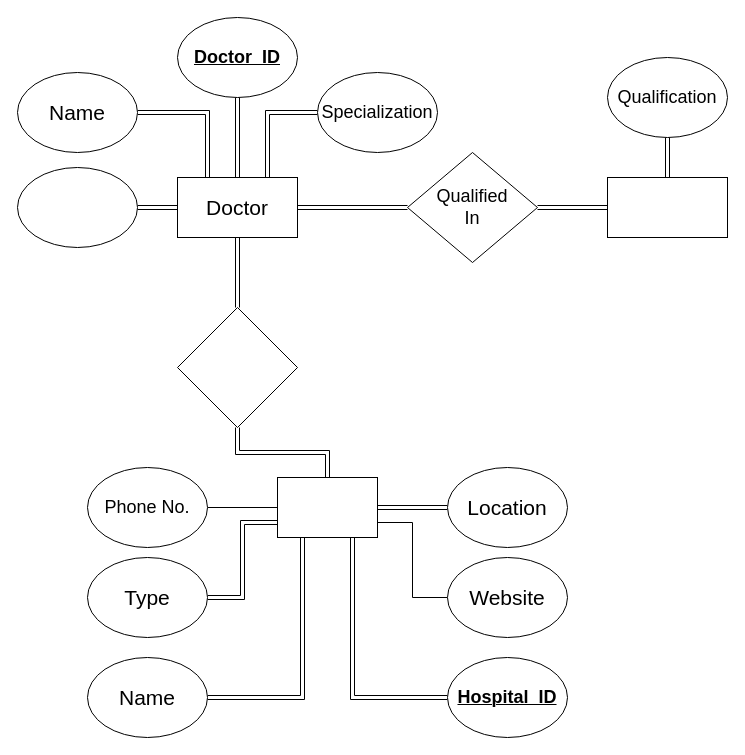
Image size: 745x755. Some labels were removed from this diagram. The shapes that lost their labels are listed below. From the top down, each one's box as (x1, y1, x2, y2) in pixels, then its label:
(16, 166, 138, 248): Gender
(606, 176, 728, 238): Education
(176, 306, 298, 428): Practices In
(276, 476, 378, 538): Hospital
